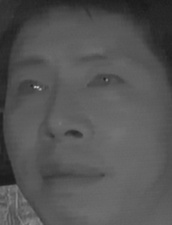eye: (86, 69, 127, 94), (14, 76, 50, 100)
mouth: (36, 158, 107, 193)
